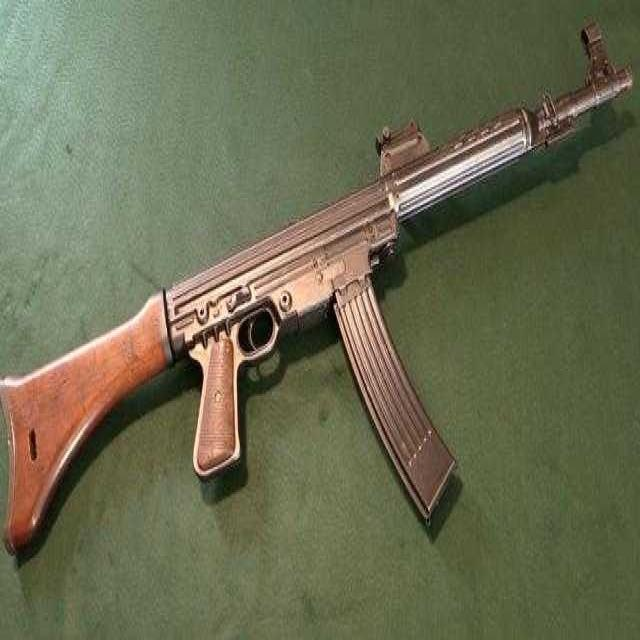heavyweapon: (1, 1, 640, 607)
